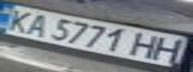1: (103, 25, 130, 54)
5: (45, 16, 75, 43)
7: (63, 19, 90, 46), (84, 22, 109, 51)
A: (18, 11, 54, 38)
H: (127, 30, 166, 60), (148, 36, 190, 63)
K: (0, 7, 39, 34)
